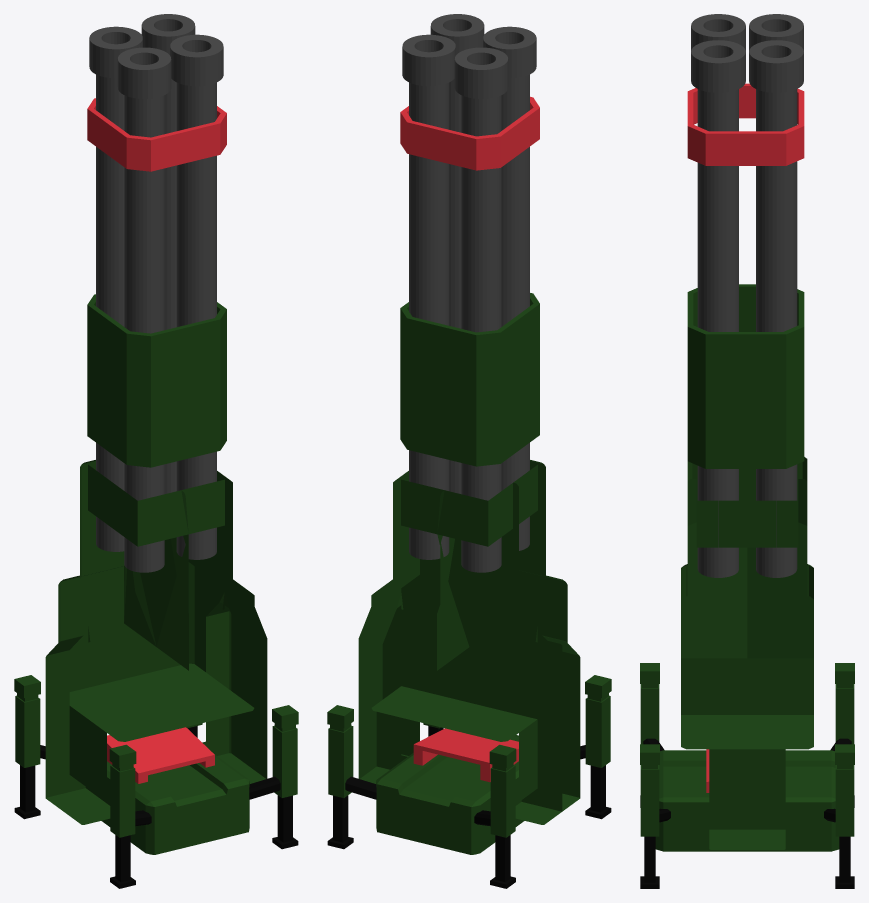
File: towerZenit3lvl.fbx
3 renders of one model, left to right at view 1: azimuth 30°, elevation 25°; view 2: azimuth 150°, elevation 25°; view 3: azimuth 270°, elevation 25°, orthographic. The views are drawn at different scales.
Parts seen in each view (by area): view 1: Plane, Cylinder.011, Cube.020, Cube.018, Cube.017, Cube.019, Cube.015, Cube.016; view 2: Plane, Cylinder.011, Cube.020, Cube.018, Cube.017, Cube.019, Cube.015, Cube.016; view 3: Plane, Cylinder.011, Cube.020, Cube.017, Cube.018, Cube.019, Cube.016.
Boxes of the visible parts, x1,y1,x2,y2 form: Plane: (45, 460, 267, 824); Cylinder.011: (89, 14, 223, 572); Cube.020: (87, 294, 226, 467); Cube.018: (14, 675, 298, 888); Cube.017: (85, 755, 249, 854); Cube.019: (87, 98, 226, 171); Cube.015: (107, 727, 214, 783); Cube.016: (40, 745, 280, 826); Plane: (358, 460, 580, 824); Cylinder.011: (402, 14, 536, 572); Cube.020: (400, 293, 539, 466); Cube.018: (327, 675, 611, 888); Cube.017: (376, 735, 524, 854); Cube.019: (400, 96, 539, 170); Cube.015: (413, 728, 518, 782); Cube.016: (345, 745, 585, 826); Plane: (681, 457, 813, 849); Cylinder.011: (691, 14, 803, 577); Cube.020: (687, 284, 804, 468); Cube.017: (655, 750, 839, 851); Cube.018: (640, 663, 854, 888); Cube.019: (687, 83, 804, 165); Cube.016: (643, 738, 851, 822).
Size of the model in its own units: 192 by 777 by 188.
